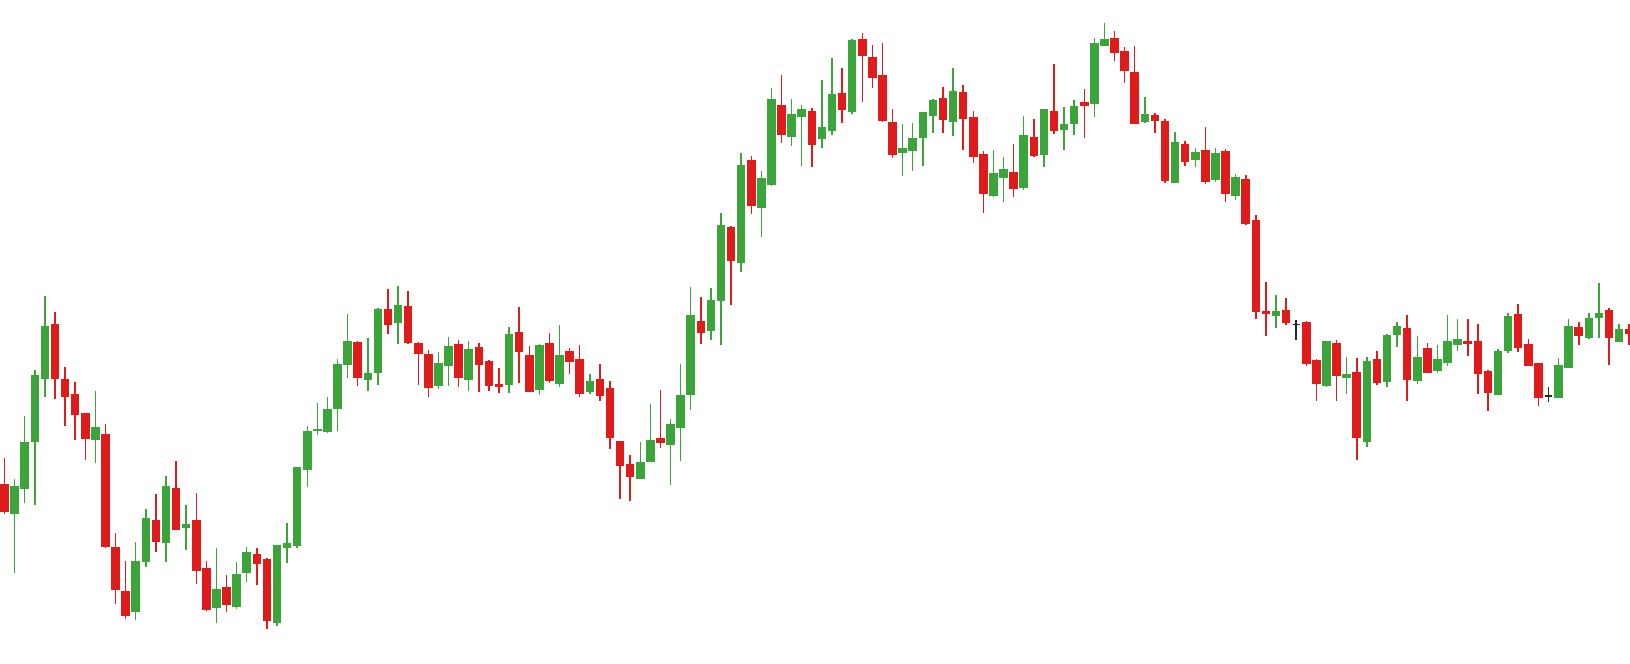buy: (211, 557, 283, 631)
sell: (1048, 17, 1129, 112)
